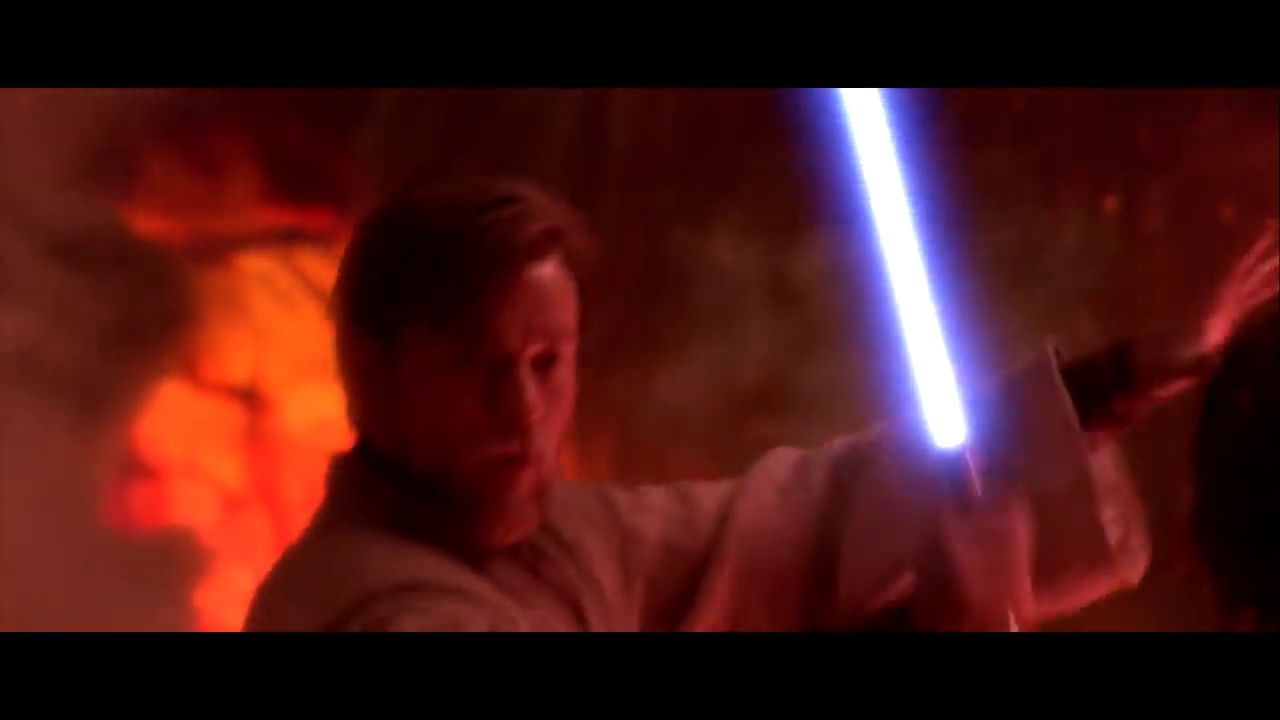lightsaber: (785, 86, 1053, 626)
